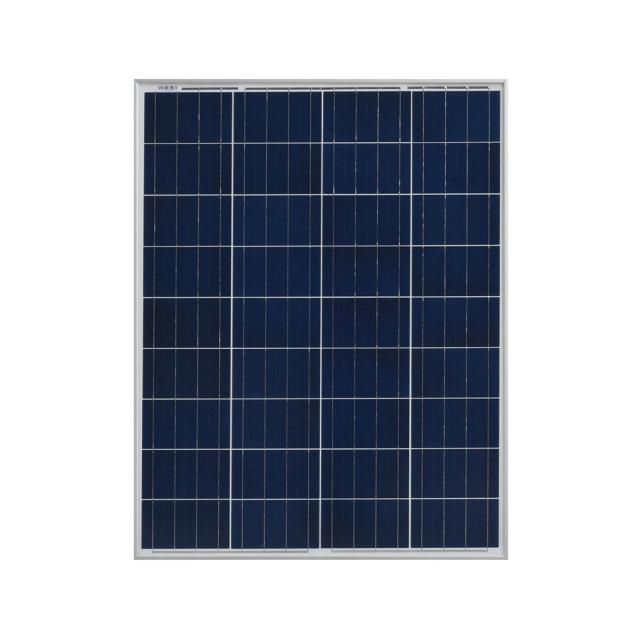clean-solar-panel: (145, 145, 231, 195)
